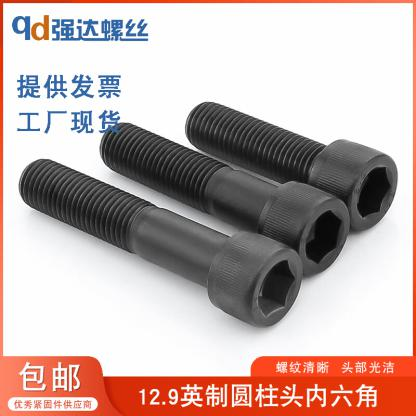FOD: (16, 156, 303, 328), (97, 120, 352, 280), (182, 99, 399, 238)
